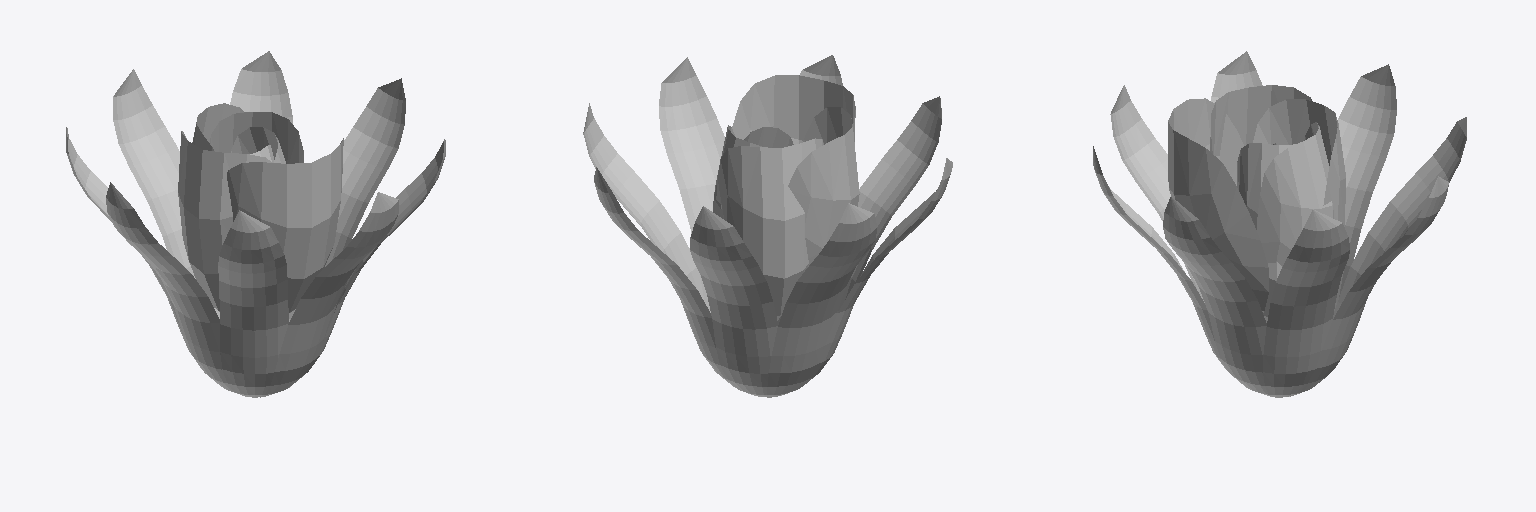
File: FlowerTopModel_03_seq_0022.obj
3 renders of one model, left to right at view 1: azimuth 30°, elevation 25°; view 2: azimuth 150°, elevation 25°; view 3: azimuth 270°, elevation 25°, orthographic.
Parts seen in each view (by area): view 1: FlowerTopModel_03; view 2: FlowerTopModel_03; view 3: FlowerTopModel_03.
Part boxes in pixels (bbox=[...]): FlowerTopModel_03: bbox=[66, 51, 445, 397]; FlowerTopModel_03: bbox=[583, 55, 952, 397]; FlowerTopModel_03: bbox=[1093, 51, 1466, 397].
Size of the model in its own units: 445 by 359 by 445.